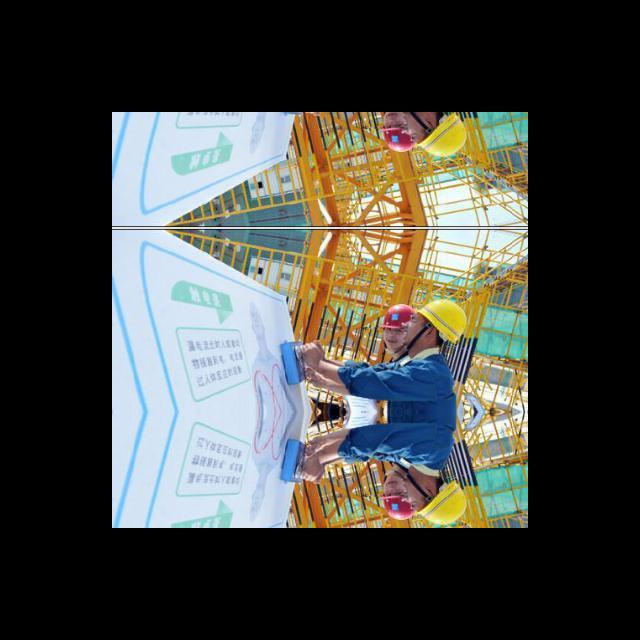Hardhat: (417, 298, 468, 344), (417, 481, 470, 525), (417, 113, 468, 156), (381, 494, 415, 521), (380, 127, 415, 151), (380, 305, 415, 327)
NO-Mask: (402, 472, 429, 493), (382, 474, 404, 490), (403, 112, 424, 125), (404, 323, 418, 342), (384, 335, 403, 348), (383, 112, 405, 122)
NO-Safety Vest: (392, 404, 461, 465), (395, 358, 456, 421)
Person: (295, 413, 467, 525), (301, 297, 467, 398), (307, 418, 417, 521), (304, 305, 414, 394)
